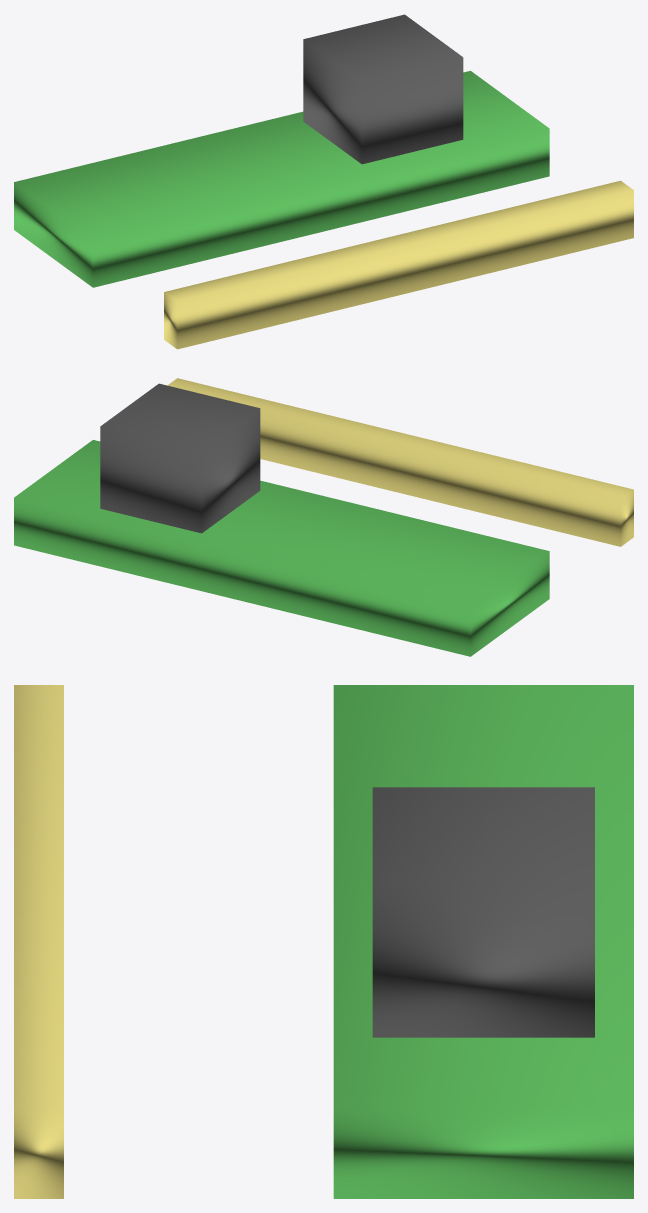
The model's file is network_card.glb.
The picture shows the model from 3 angles, top to bottom: view 1: azimuth 30°, elevation 25°; view 2: azimuth 150°, elevation 25°; view 3: azimuth 270°, elevation 25°; orthographic projection. The views are drawn at different scales.
Visible parts, largest first — view 1: Cube; view 2: Cube; view 3: Cube.
Part boxes in pixels (<box>): Cube: <box>14,14,633,349</box>; Cube: <box>14,378,633,656</box>; Cube: <box>14,685,633,1198</box>.
Size of the model in its own units: 0.09 by 0.0245 by 0.0557.
